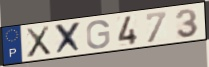3: (174, 7, 200, 39)
4: (116, 14, 140, 46)
7: (145, 10, 169, 44)
G: (85, 19, 112, 50)
X: (54, 20, 84, 57), (24, 24, 53, 59)
